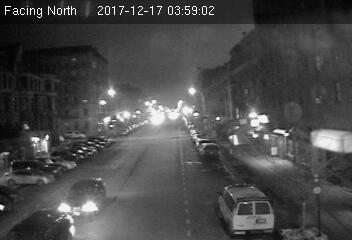car: (58, 176, 107, 219)
police: (216, 180, 278, 234)
